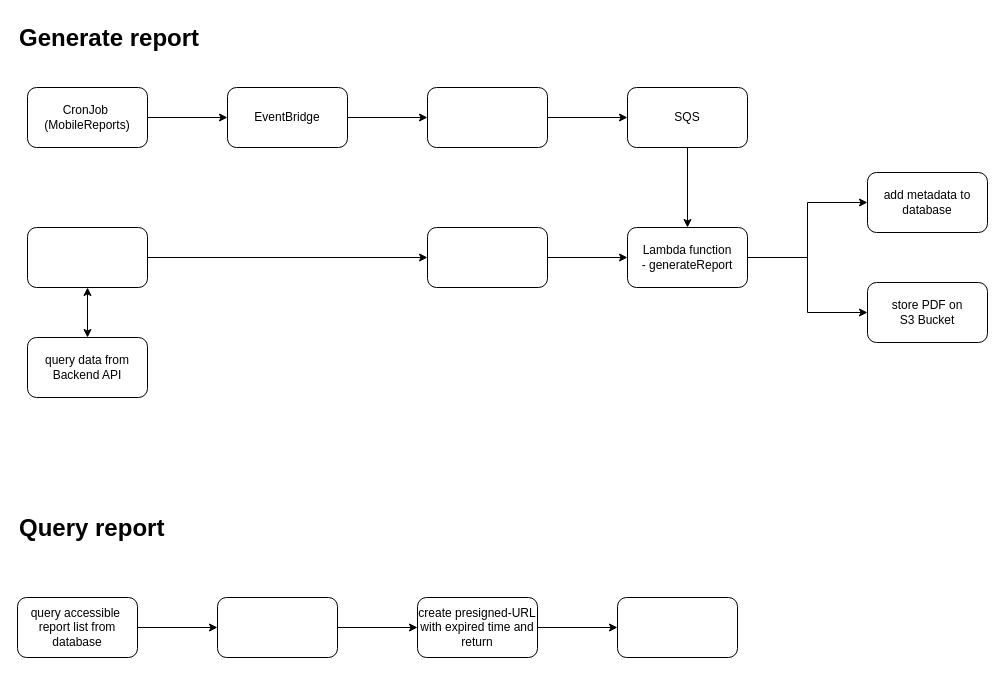
Image size: 1005x675. Some labels were removed from this diagram. The shapes that lost their labels are listed below. From the top down, each one's centre as x and y in pixels, then its label:
the point at 487,117: Lambda function - checkValidUser - queryData
the point at 87,257: WebRequest (WebReports)
the point at 487,257: API Gateway for auth
the point at 277,627: query one report PDF file - getReportByID
the point at 677,627: visit PDF file directly using presigned-URL
